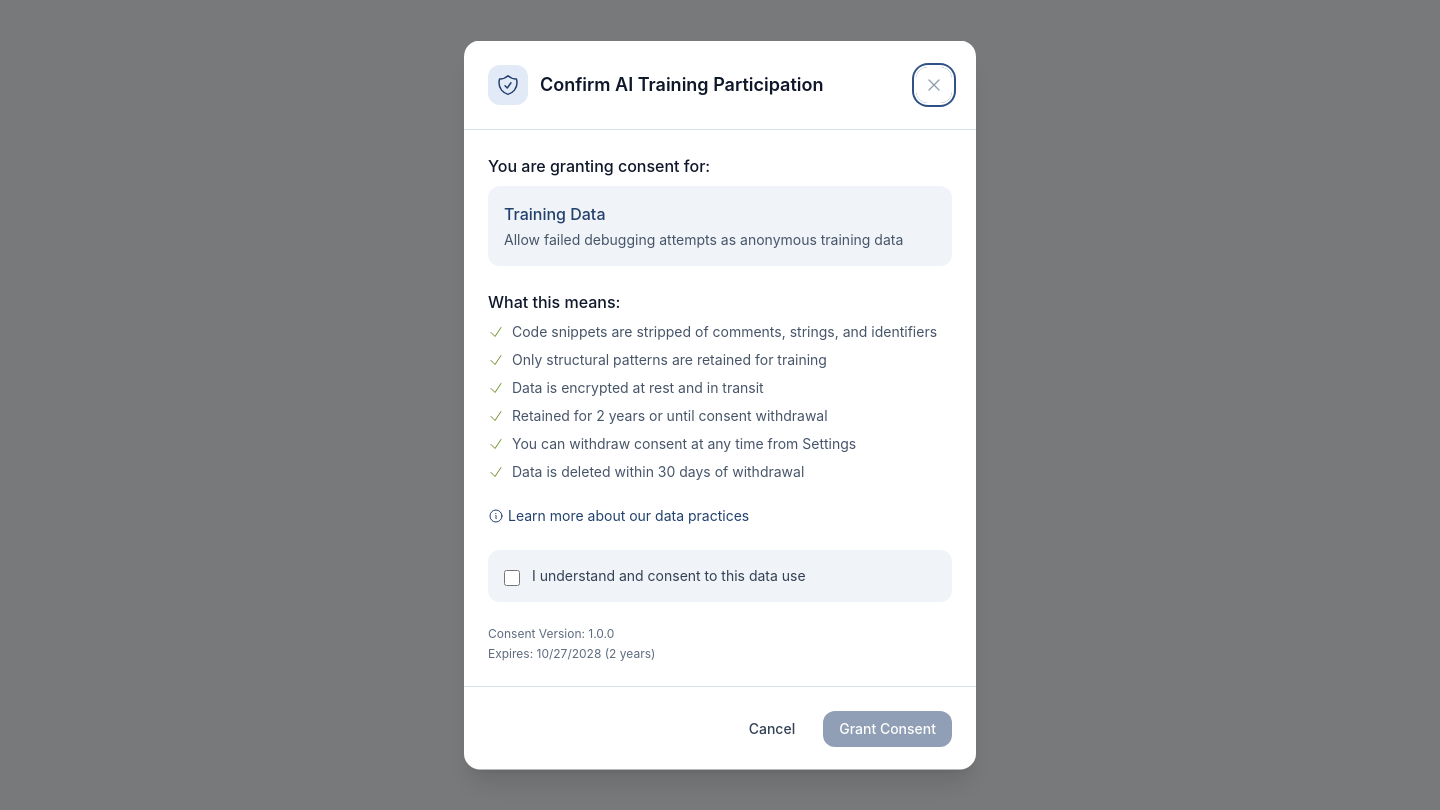
Test: ConsentConfirmModal › buttons › grant consent button is enabled when acknowledged
Click the checkbox at (512, 578), box [504,570,520,586]
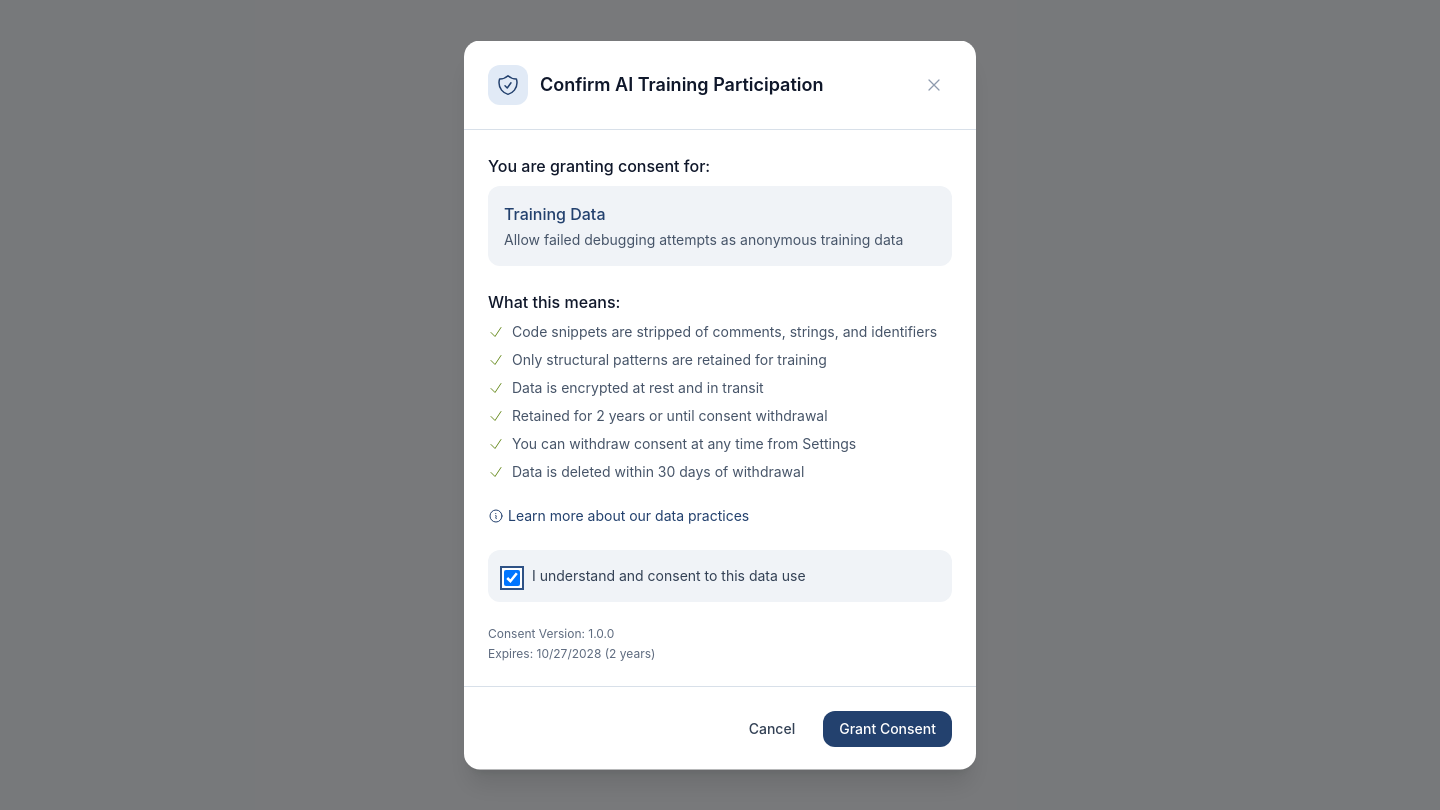
Result: the button "Grant Consent" is enabled at [823,710,952,746]
